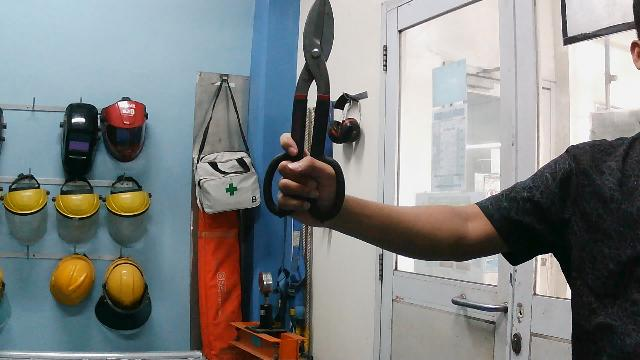gunting_plat: (254, 1, 353, 224)
